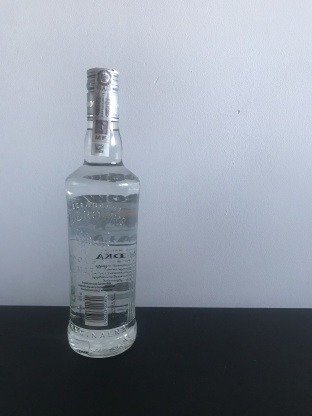nakretka: (83, 62, 122, 124)
